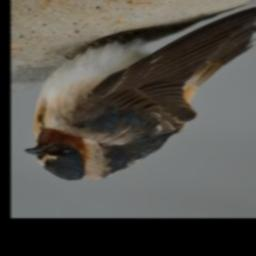Swallow: (23, 2, 256, 182)
